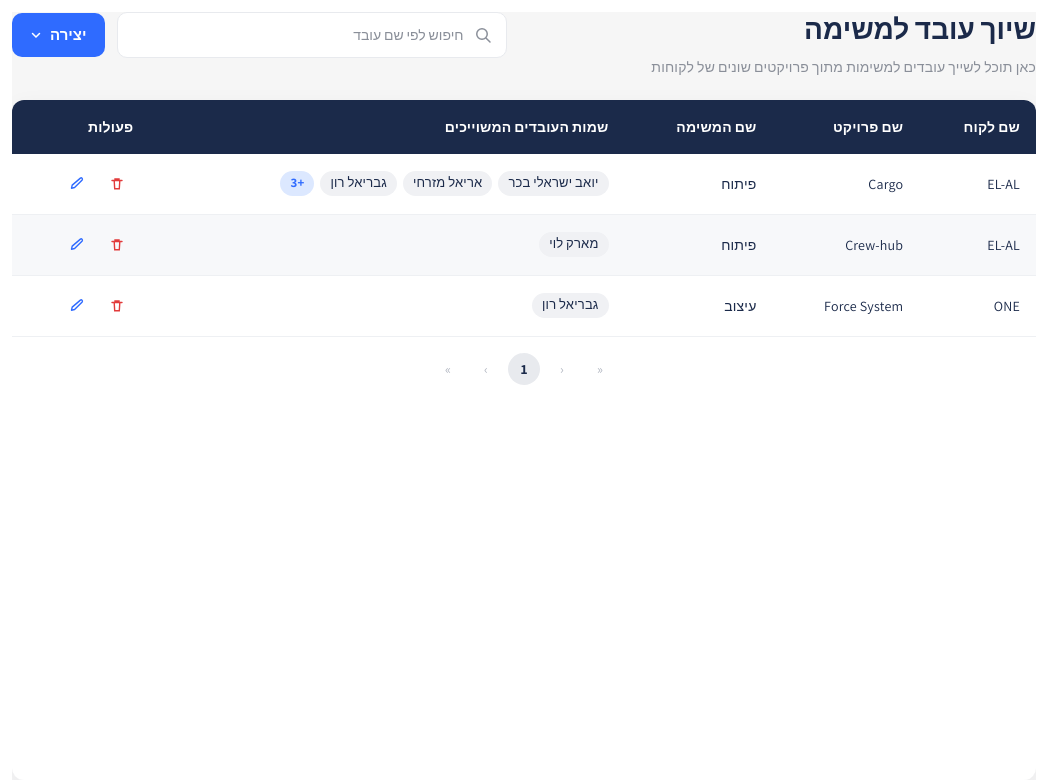
Test case: AdminAssignments › shows every assigned name when hovering the +N pill
The image size is (1048, 780).
Check: the text "Cargo" is shown, box [772,154,919,214]
Hover over the text named "כל העובדים": (298, 184) [280,171,314,196]
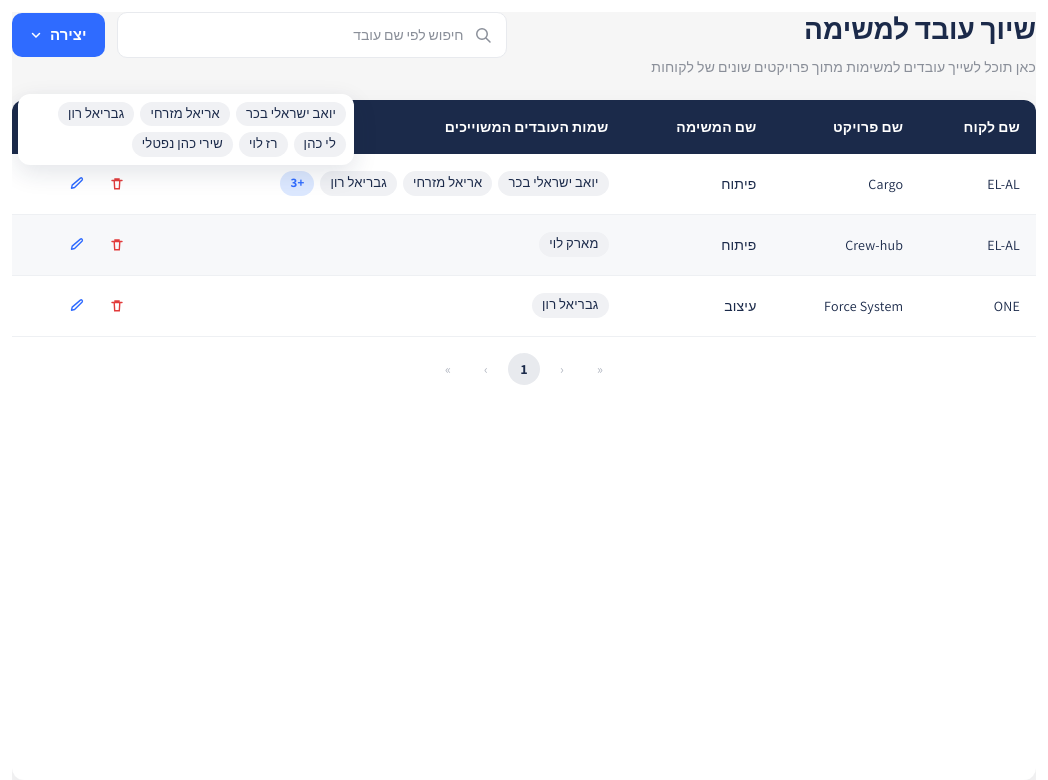
Check: the text "שירי כהן נפטלי" is shown, box [132,132,233,157]
Check: the 1st text "יואב ישראלי בכר" is shown, box [236,102,346,126]
Check: the text "רז לוי" is shown, box [239,132,288,157]
